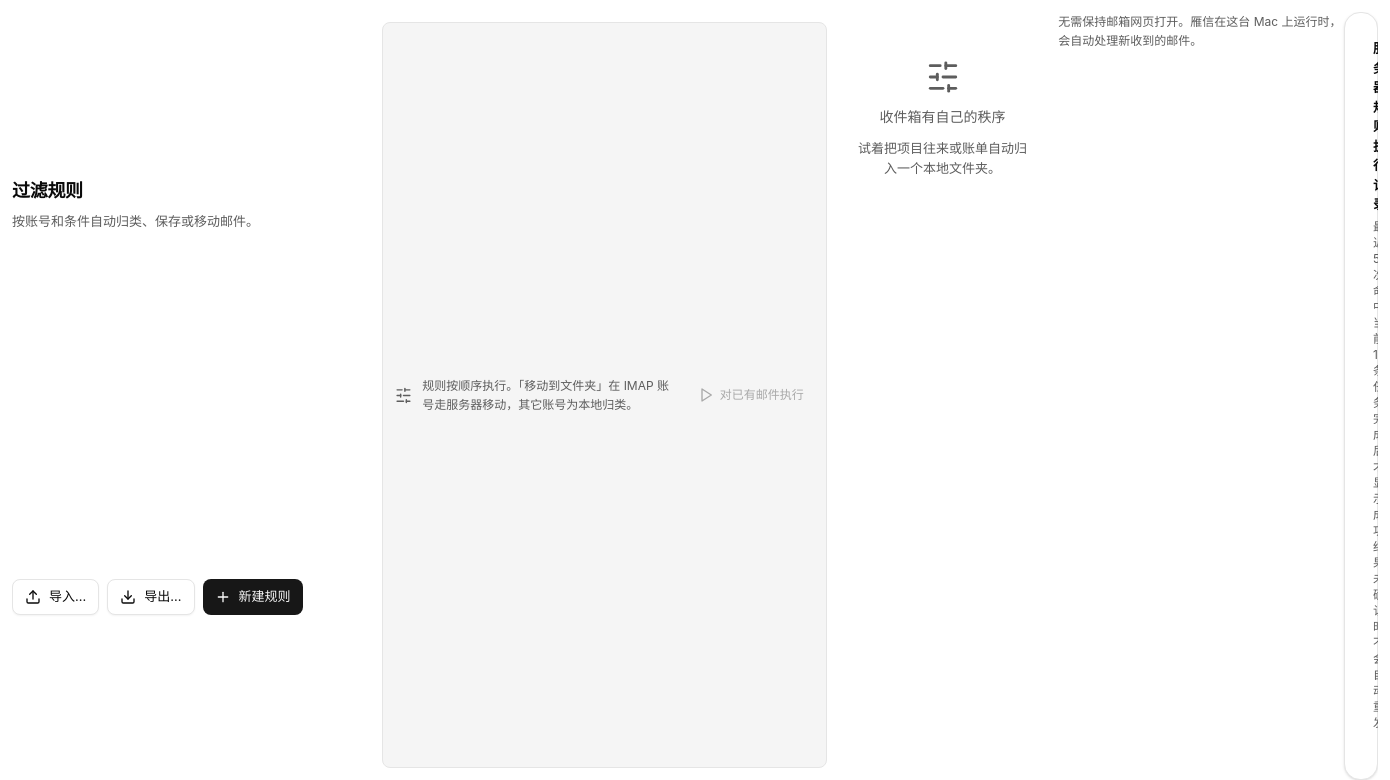
keeps server execution records collapsed until the card header is clicked
Click the button named "展开或收起服务器规则执行记录".
click(1370, 385)  # box [1361, 37, 1378, 732]
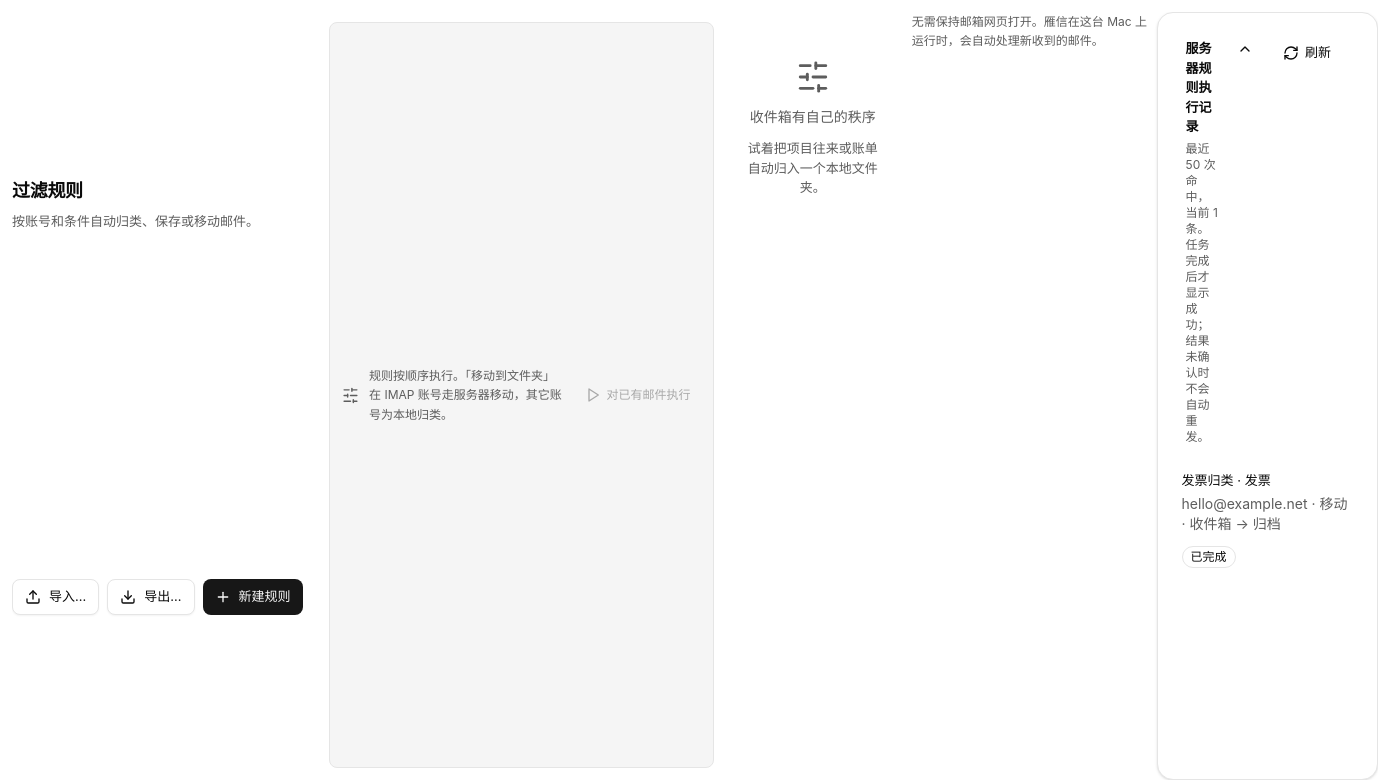
Expected: the button with aria-label "展开或收起服务器规则执行记录" is expanded, [1174, 37, 1265, 446]
Expected: the list named "服务器规则命中记录" is shown, [1182, 470, 1353, 568]
